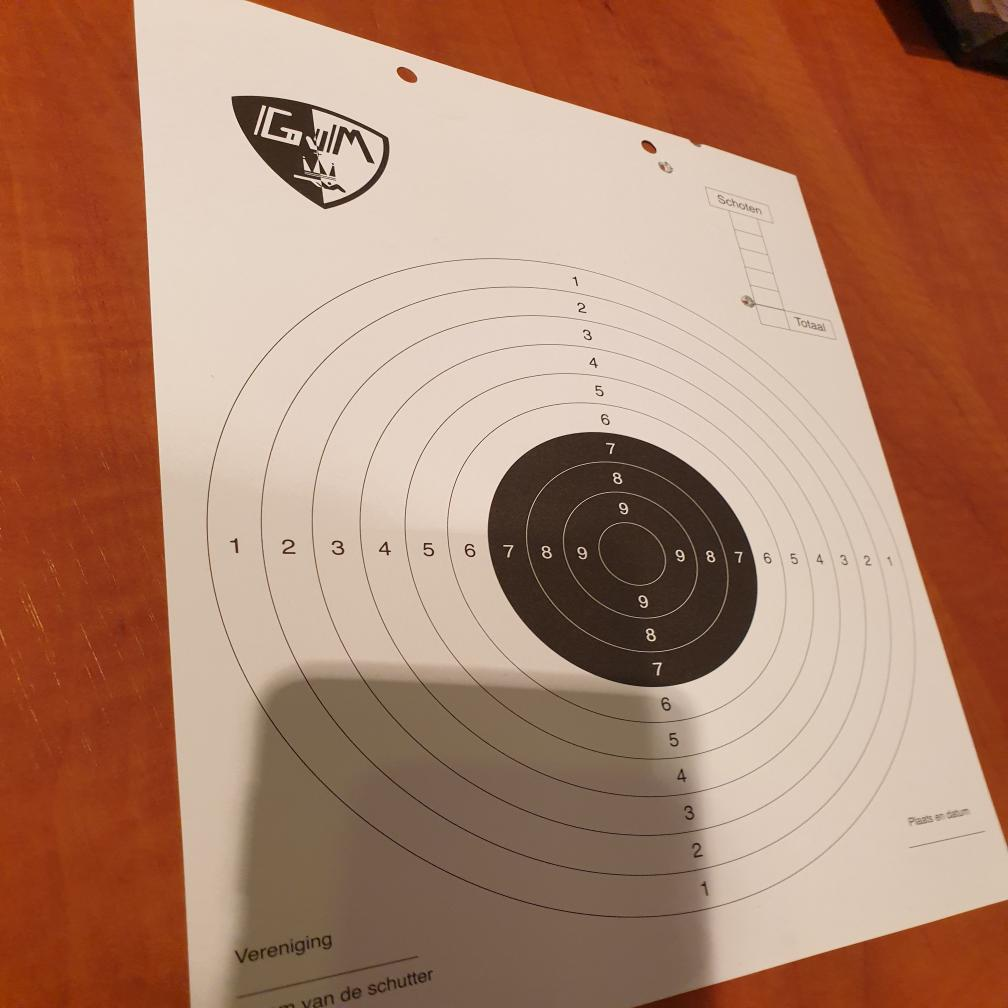0: (657, 160, 676, 174), (739, 294, 757, 308), (687, 139, 703, 148)
Target: (201, 253, 924, 920)
black_contour: (489, 432, 758, 686)
